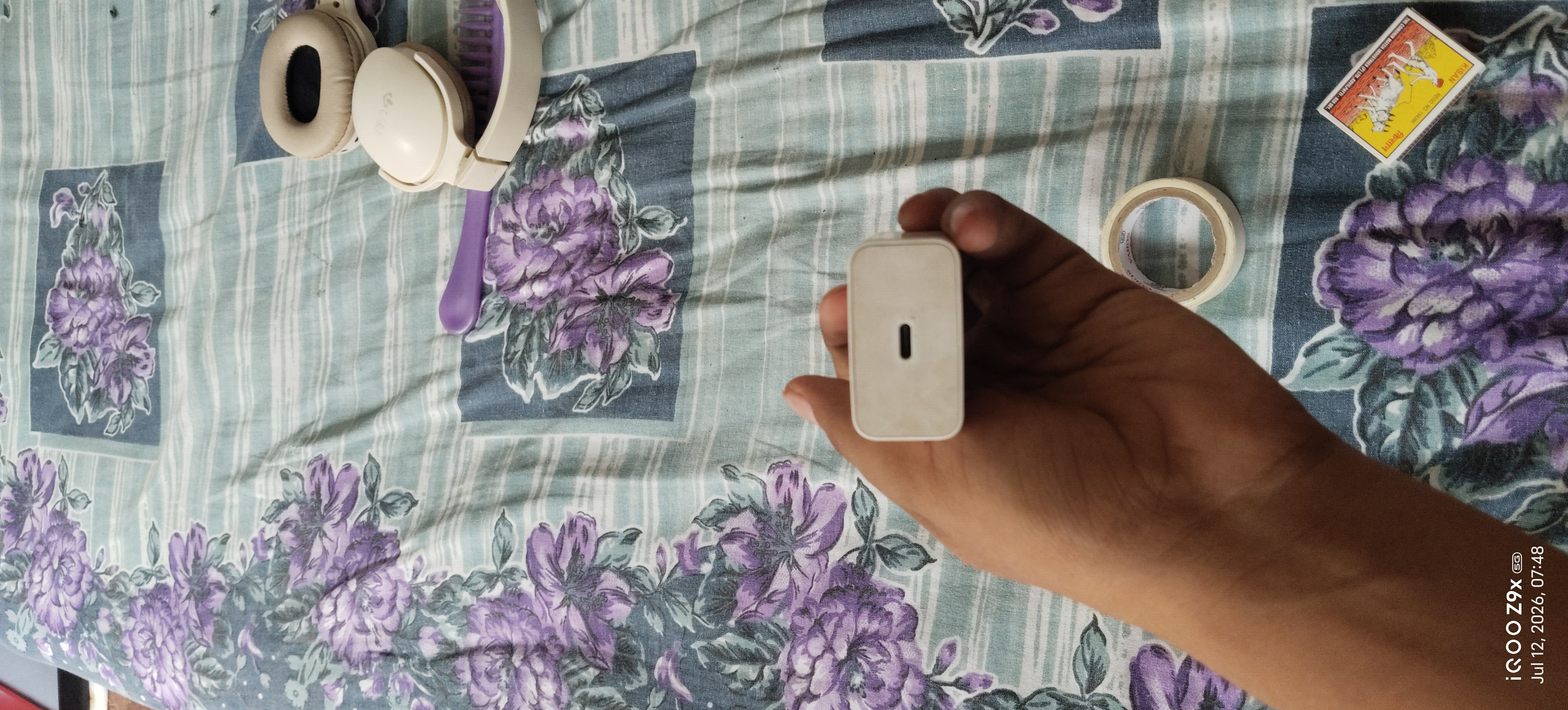charger: (798, 194, 990, 495)
matchbox: (1307, 0, 1504, 197)
tape_roll: (1078, 152, 1260, 350)
